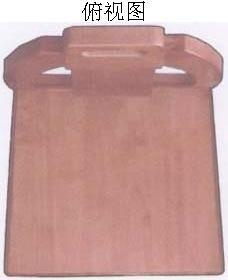obstacle: (4, 26, 223, 275)
